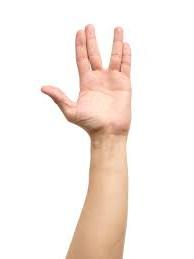Live-Long-Prosper: (40, 21, 135, 147)
